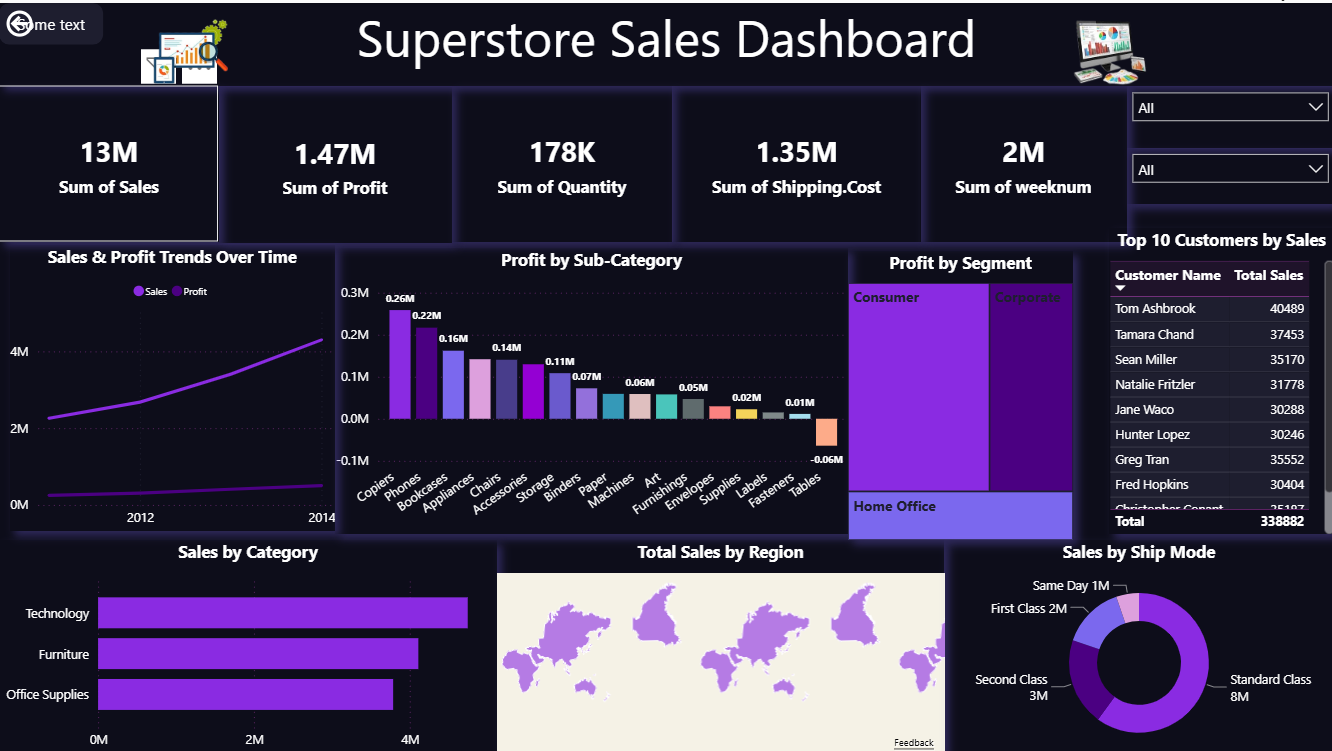

The page's visual inventory and layout, read from the dashboard file:
{"tool":"powerbi","page":{"name":"Dashboard","canvas":[1280,720],"ordinal":0},"visuals":[{"type":"textbox","box":[0,0,1279.9,79.1],"z":0},{"type":"card","fields":{"Values":["Sum(superstore.Sales)"]},"box":[0,78.7,210.5,149.9],"z":1000},{"type":"card","fields":{"Values":["Sum(superstore.Quantity)"]},"box":[434.6,78.7,210.5,149.9],"z":2000},{"type":"card","fields":{"Values":["Sum(superstore.Shipping.Cost)"]},"box":[645.1,78.7,237.7,149.9],"z":3000},{"type":"card","fields":{"Values":["Sum(superstore.weeknum)"]},"box":[882.8,78.7,198.4,149.9],"z":4000},{"type":"slicer","fields":{"Values":["superstore.Region"]},"box":[1081.5,80.5,198.5,59],"z":5000},{"type":"card","fields":{"Values":["Sum(superstore.Profit)"]},"box":[210.5,80.3,224.1,149.9],"z":6000},{"type":"barChart","title":"Sales by Category","fields":{"Y":["Sum(superstore.Sales)"],"Category":["superstore.Category"]},"box":[0,514.8,477.5,204.2],"z":7000},{"type":"columnChart","title":"Profit by Sub-Category","fields":{"Y":["Sum(superstore.Profit)"],"Category":["superstore.Sub.Category"],"Series":["superstore.Sub.Category"]},"box":[322.1,234.4,491.8,274.7],"z":8000},{"type":"lineChart","title":"Sales & Profit Trends Over Time","fields":{"Category":["superstore.Year"],"Y":["Sum(superstore.Sales)","Sum(superstore.Profit)"]},"box":[10.1,231.5,312.1,274.7],"z":9000},{"type":"azureMap","title":"Total Sales by Region","fields":{"Category":["superstore.Region"]},"box":[477.5,514.8,428.6,204.2],"z":10000},{"type":"treemap","title":"Profit by Segment","fields":{"Group":["superstore.Segment"],"Values":["Sum(superstore.Profit)"]},"box":[814,237.3,215.7,277.6],"z":11000},{"type":"donutChart","title":"Sales by Ship Mode","fields":{"Y":["Sum(superstore.Sales)"],"Category":["superstore.Ship.Mode"]},"box":[906,514.8,373.9,204.2],"z":12000},{"type":"tableEx","title":"Top 10 Customers by Sales","fields":{"Values":["superstore.Customer.Name","Sum(superstore.Sales)"]},"box":[1064.2,215.7,215.7,293.4],"z":13000},{"type":"slicer","fields":{"Values":["superstore.Year"]},"box":[1081.5,139.5,198.5,53.2],"z":14000},{"type":"actionButton","box":[0,0,100,40],"z":15000},{"type":"image","box":[86.3,0,195.6,93.5],"z":16000},{"type":"image","box":[934.8,0,261.7,93.5],"z":17000}]}

Visuals, with their boxes in screenshot pixels (x1, y1, x2, y2), scaled from the page's 1280x720 canvas onto the 1332x751 screenshot:
textbox: <region>0, 0, 1331, 83</region>
card - Sum(superstore.Sales): <region>0, 82, 219, 238</region>
card - Sum(superstore.Quantity): <region>452, 82, 671, 238</region>
card - Sum(superstore.Shipping.Cost): <region>671, 82, 919, 238</region>
card - Sum(superstore.weeknum): <region>919, 82, 1125, 238</region>
slicer - superstore.Region: <region>1125, 84, 1331, 146</region>
card - Sum(superstore.Profit): <region>219, 84, 452, 240</region>
"Sales by Category" barChart: <region>0, 537, 497, 750</region>
"Profit by Sub-Category" columnChart: <region>335, 244, 847, 531</region>
"Sales & Profit Trends Over Time" lineChart: <region>11, 241, 335, 528</region>
"Total Sales by Region" azureMap: <region>497, 537, 943, 750</region>
"Profit by Segment" treemap: <region>847, 248, 1072, 537</region>
"Sales by Ship Mode" donutChart: <region>943, 537, 1331, 750</region>
"Top 10 Customers by Sales" tableEx: <region>1107, 225, 1331, 531</region>
slicer - superstore.Year: <region>1125, 146, 1331, 201</region>
actionButton: <region>0, 0, 104, 42</region>
image: <region>90, 0, 293, 98</region>
image: <region>973, 0, 1245, 98</region>
